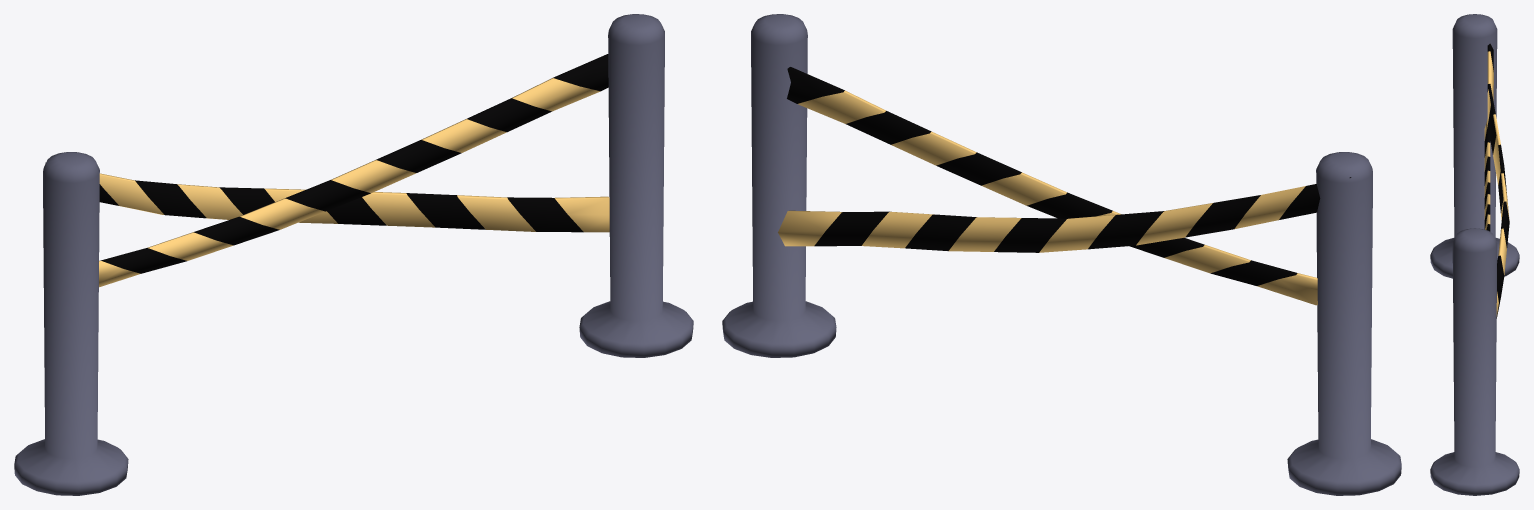
File: Tape_Outside.glb
The picture shows the model from 3 angles, left to right: view 1: azimuth 30°, elevation 25°; view 2: azimuth 150°, elevation 25°; view 3: azimuth 270°, elevation 25°; orthographic projection. The views are drawn at different scales.
Parts seen in each view (by area): view 1: Tape_Outside; view 2: Tape_Outside; view 3: Tape_Outside.
Part boxes in pixels (x1=…): Tape_Outside: x1=14, y1=14, x2=693, y2=495; Tape_Outside: x1=722, y1=14, x2=1401, y2=495; Tape_Outside: x1=1430, y1=14, x2=1519, y2=495.
Size of the model in its own units: 0.8181 by 0.3686 by 0.1229.
1 material, 1 textured.
